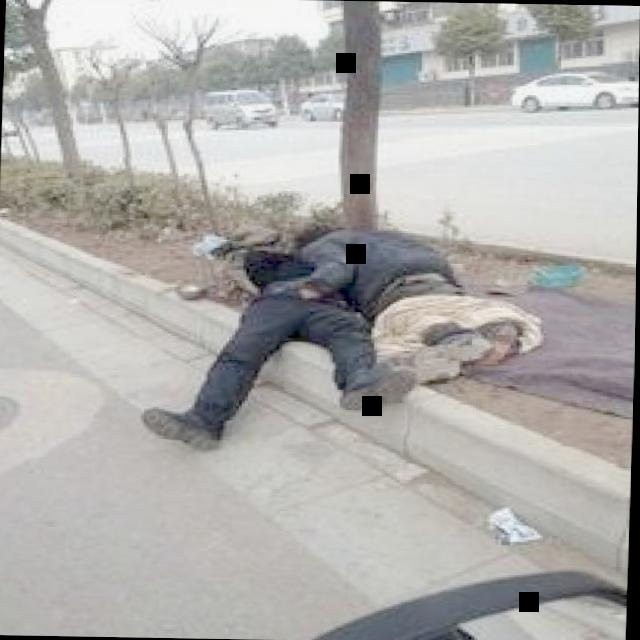Fall-Detected: (302, 205, 554, 398)
